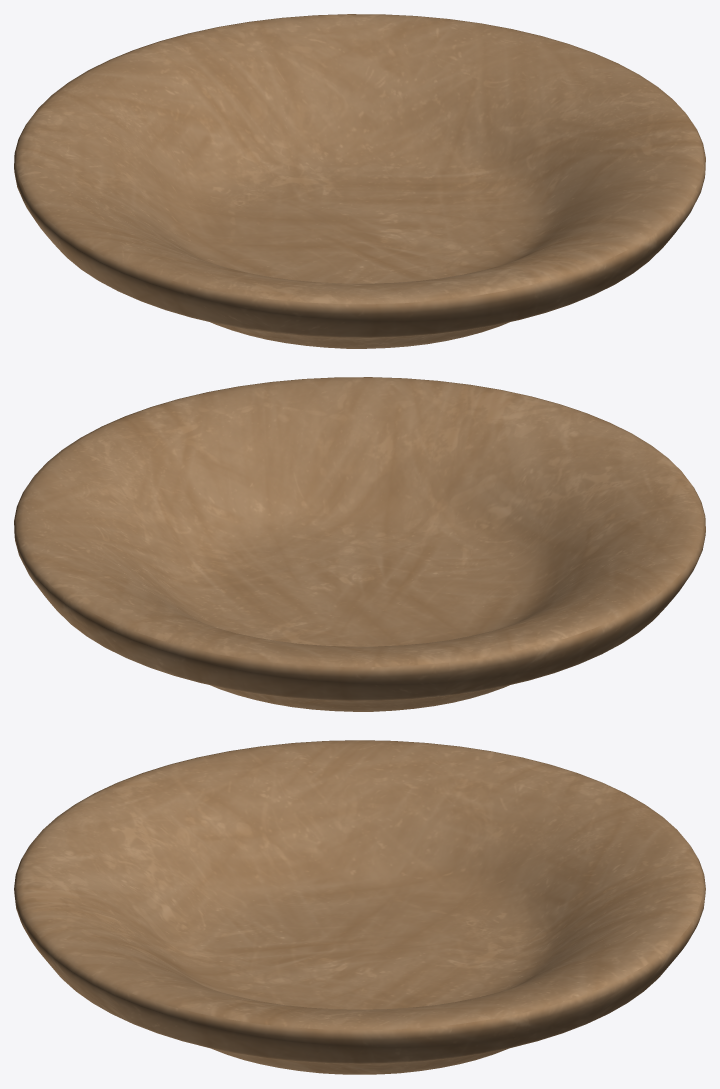
Rendered from Bord.fbx.
3 renders of one model, top to bottom at view 1: azimuth 30°, elevation 25°; view 2: azimuth 150°, elevation 25°; view 3: azimuth 270°, elevation 25°, orthographic.
Visible parts, largest first — view 1: bord; view 2: bord; view 3: bord.
Boxes of the visible parts, x1,y1,x2,y2 form: bord: [14, 14, 705, 348]; bord: [14, 377, 705, 711]; bord: [14, 740, 705, 1074].
Bounding box in the file's own units: 63.2 × 12.13 × 63.2.
1 material, 1 textured.
